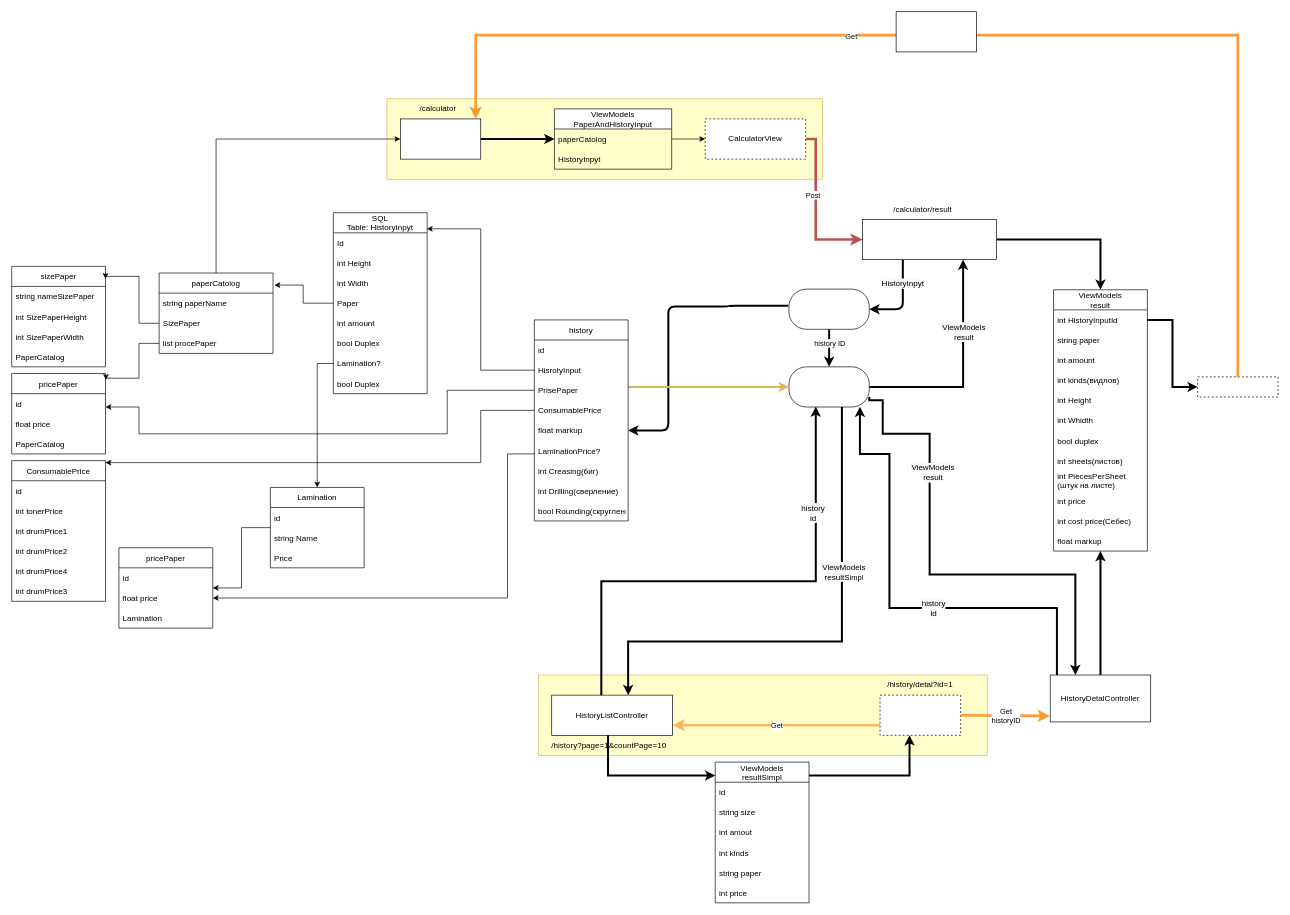
This 1290x915 diagram has some shape labels left out. Here are the shapes that lost their labels. From the top down, the centre of each, then its label:
the point at 936,31: HistoryInputId
the point at 440,138: CalculatorController
the point at 929,239: CalculatorResultController
the point at 828,308: CalculationHistory and add DB
the point at 828,386: CalculationResult
the point at 1237,386: ResultView
the point at 920,714: HistoryListView
